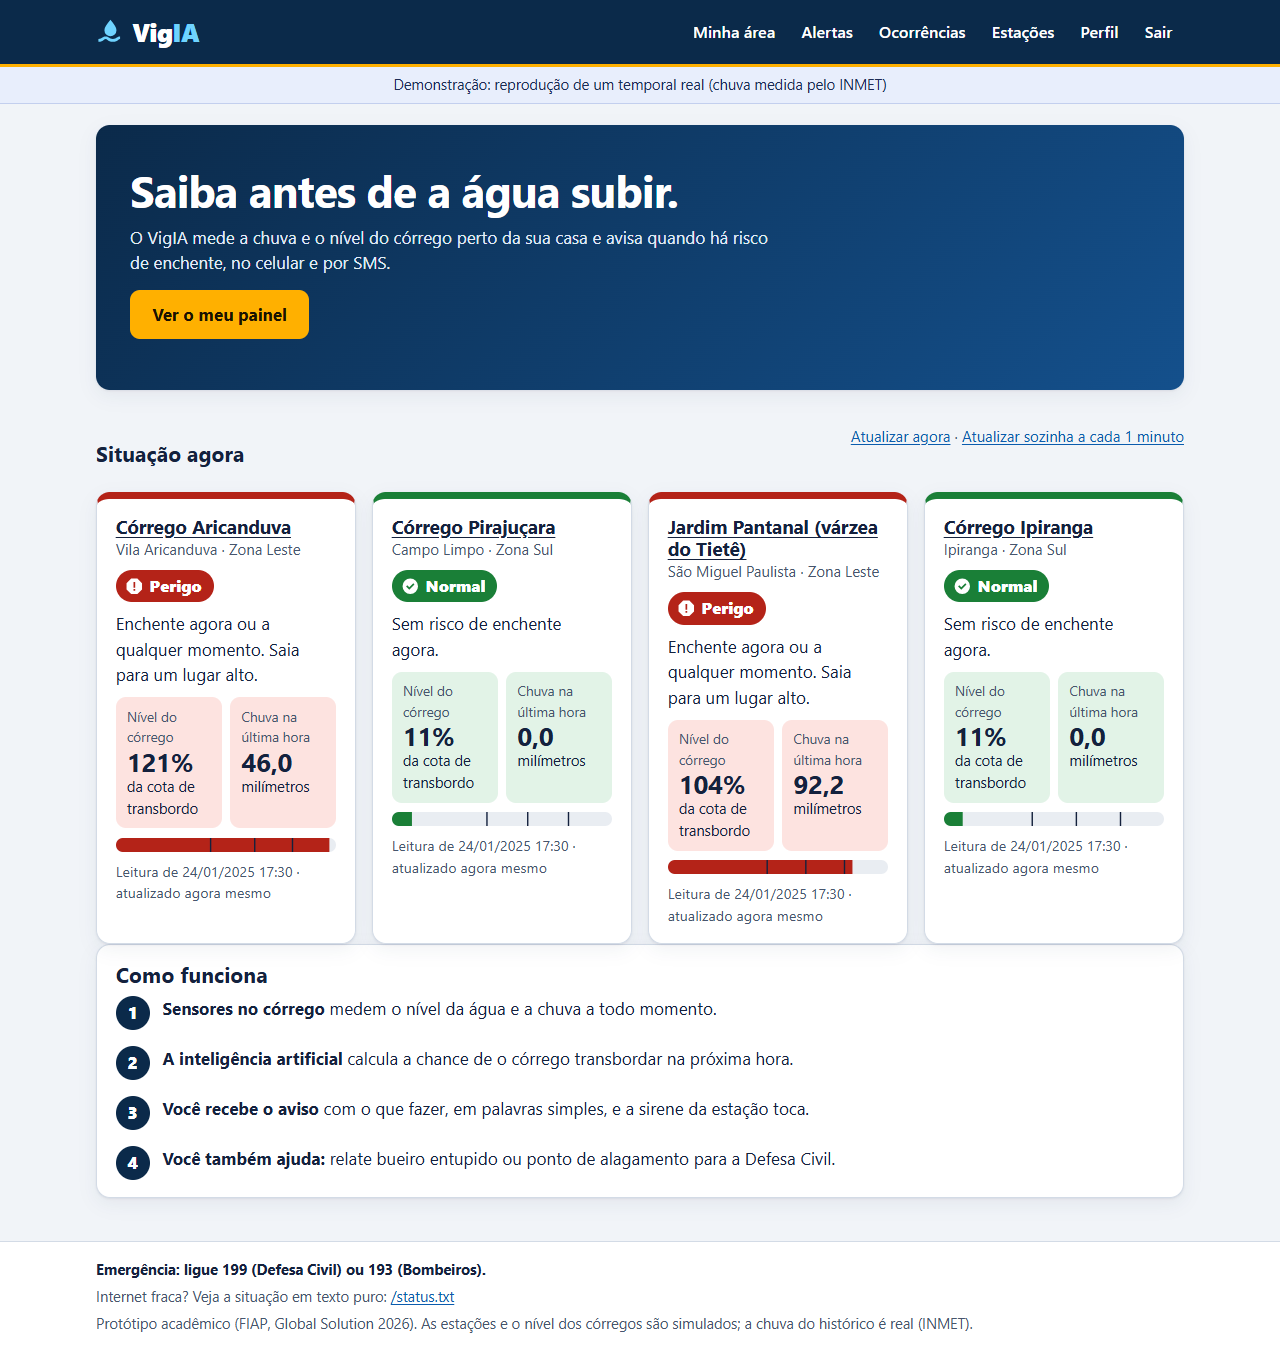

This screenshot's page, from the dashboard's own definition file:
{"tool":"powerbi","page":{"name":"Página 1","canvas":[1920,1080],"ordinal":0},"visuals":[{"type":"htmlContent443BE3AD55E043BF878BED274D3A6855","fields":{"content":["Medidas.VigIA Painel HTML"]},"box":[0,0,1920,1079.6],"z":0},{"type":"slicer","fields":{"Values":["dim_data.data"]},"box":[42.3,134.2,300.5,52.5],"z":1},{"type":"slicer","fields":{"Values":["dim_estacao.nome"]},"box":[367.7,137.1,356,52.5],"z":2}]}

Visuals, with their boxes on the page's 1920x1080 design canvas (x1, y1, x2, y2). These are canvas units, not pixel positions in the 1280x1361 screenshot, which may show the page scaled, cropped or inside an application window:
htmlContent443BE3AD55E043BF878BED274D3A6855 - Medidas.VigIA Painel HTML: region(0, 0, 1920, 1080)
slicer - dim_data.data: region(42, 134, 343, 187)
slicer - dim_estacao.nome: region(368, 137, 724, 190)
